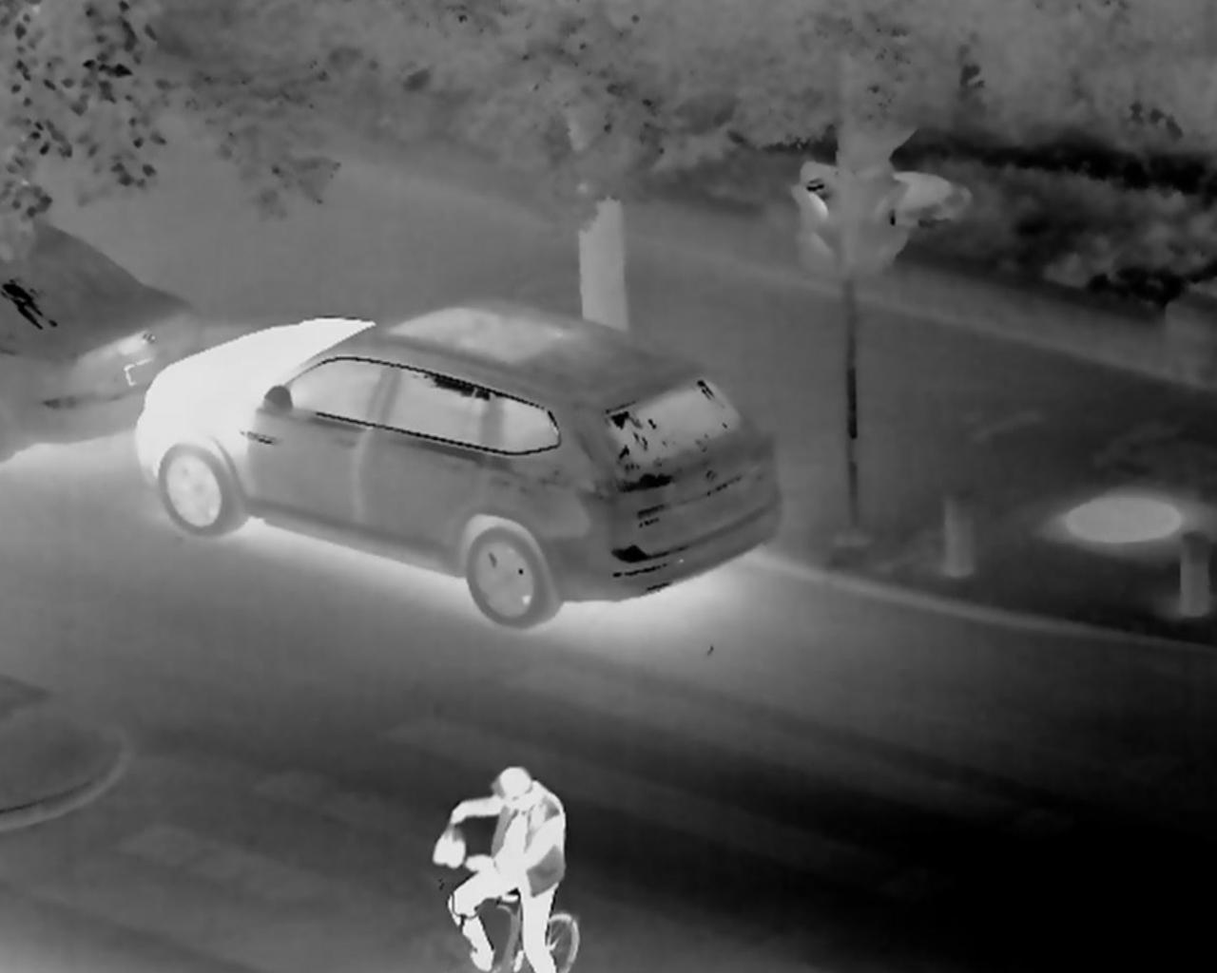person: (428, 762, 568, 973)
